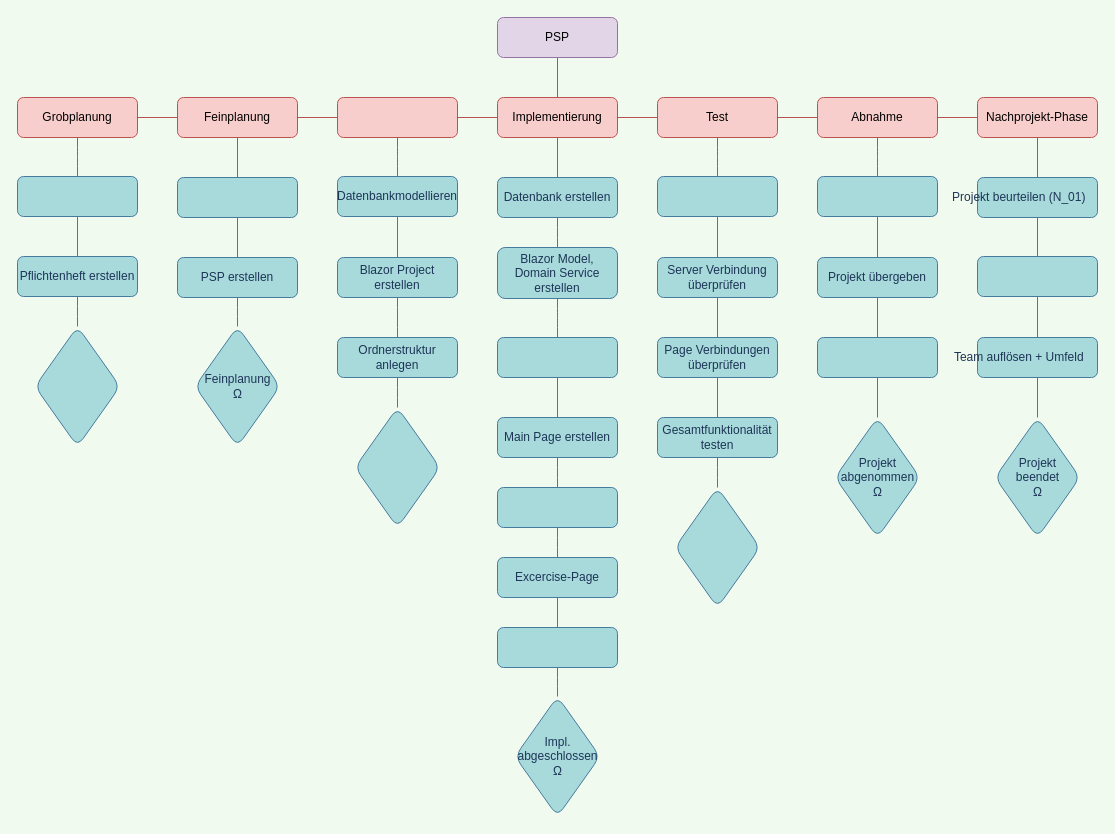
This 1115x834 diagram has some shape labels left out. Each missing label, with the centre of its shape:
"Arbeitspakete definieren" belongs at [237,197].
"Datenbank Verbindung aufbauen" belongs at [557,357].
"Dokumente übergeben" belongs at [877,196].
"Entry-Page" belongs at [557,647].
"Grobplanung Ω" belongs at [77,386].
"Login-Page erstellen" belongs at [557,507].
"Pflichtenheft Anforderungen überprüfen" belongs at [717,196].
"Projektabschlussbericht (N_03)" belongs at [1037,276].
"Tech. Vorbereitung" belongs at [397,117].
"Tech. Vorbereitung abgeschlossen Ω" belongs at [397,467].
"Testung abgeschlossen Ω" belongs at [717,547].
"Von Auftraggeber Ziele überprüfen lassen" belongs at [877,357].
"Zusammenfassung erstellen" belongs at [77,196].
